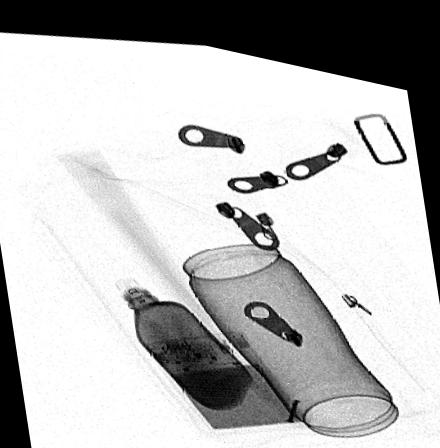Powerbank: (143, 319, 305, 425)
